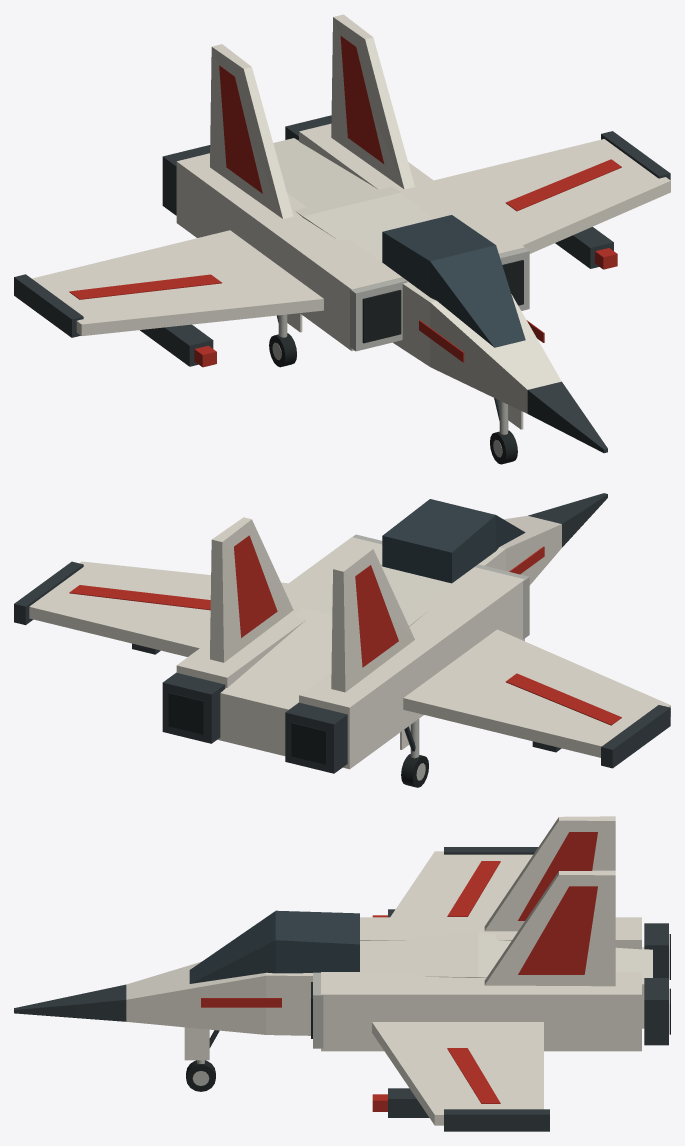
3 views of the same model, one above another, from view 1: azimuth 30°, elevation 25°; view 2: azimuth 150°, elevation 25°; view 3: azimuth 270°, elevation 25° (orthographic). The views are drawn at different scales.
Visible parts, largest first — view 1: jet-a-fleet-armor, jet-a-fleet-glass, jet-a-fleet-machine, jet-a-fleet-red, jet-a-fleet-rubber, jet-a-fleet-edge, gear-wheel-nose-0-0-fleet-rubber; view 2: jet-a-fleet-armor, jet-a-fleet-machine, jet-a-fleet-red, jet-a-fleet-glass, jet-a-fleet-rubber, jet-a-fleet-edge, gear-wheel-left-0-0-fleet-rubber; view 3: jet-a-fleet-armor, jet-a-fleet-red, jet-a-fleet-machine, jet-a-fleet-glass, landing-gear-nose-fleet-armor, jet-a-fleet-edge, gear-wheel-nose-0-0-fleet-rubber.
Boxes of the visible parts, left/top/right/bottom form: jet-a-fleet-armor: left=32, top=14, right=670, bottom=413; jet-a-fleet-glass: left=382, top=215, right=525, bottom=347; jet-a-fleet-machine: left=14, top=115, right=670, bottom=453; jet-a-fleet-red: left=69, top=36, right=621, bottom=367; jet-a-fleet-rubber: left=362, top=260, right=523, bottom=343; jet-a-fleet-edge: left=350, top=248, right=529, bottom=351; gear-wheel-nose-0-0-fleet-rubber: left=490, top=430, right=517, bottom=464; jet-a-fleet-armor: left=29, top=515, right=670, bottom=769; jet-a-fleet-machine: left=14, top=493, right=670, bottom=773; jet-a-fleet-red: left=69, top=535, right=621, bottom=725; jet-a-fleet-glass: left=382, top=499, right=525, bottom=583; jet-a-fleet-rubber: left=168, top=692, right=326, bottom=764; jet-a-fleet-edge: left=352, top=534, right=529, bottom=638; gear-wheel-left-0-0-fleet-rubber: left=401, top=754, right=428, bottom=787; jet-a-fleet-armor: left=126, top=816, right=652, bottom=1125; jet-a-fleet-red: left=201, top=832, right=597, bottom=1111; jet-a-fleet-machine: left=14, top=847, right=668, bottom=1131; jet-a-fleet-glass: left=189, top=910, right=359, bottom=983; landing-gear-nose-fleet-armor: left=184, top=1027, right=209, bottom=1060; jet-a-fleet-edge: left=313, top=972, right=323, bottom=1048; gear-wheel-nose-0-0-fleet-rubber: left=186, top=1060, right=215, bottom=1091.
Size of the model in its own units: 59.87 by 25.4 by 62.11.
